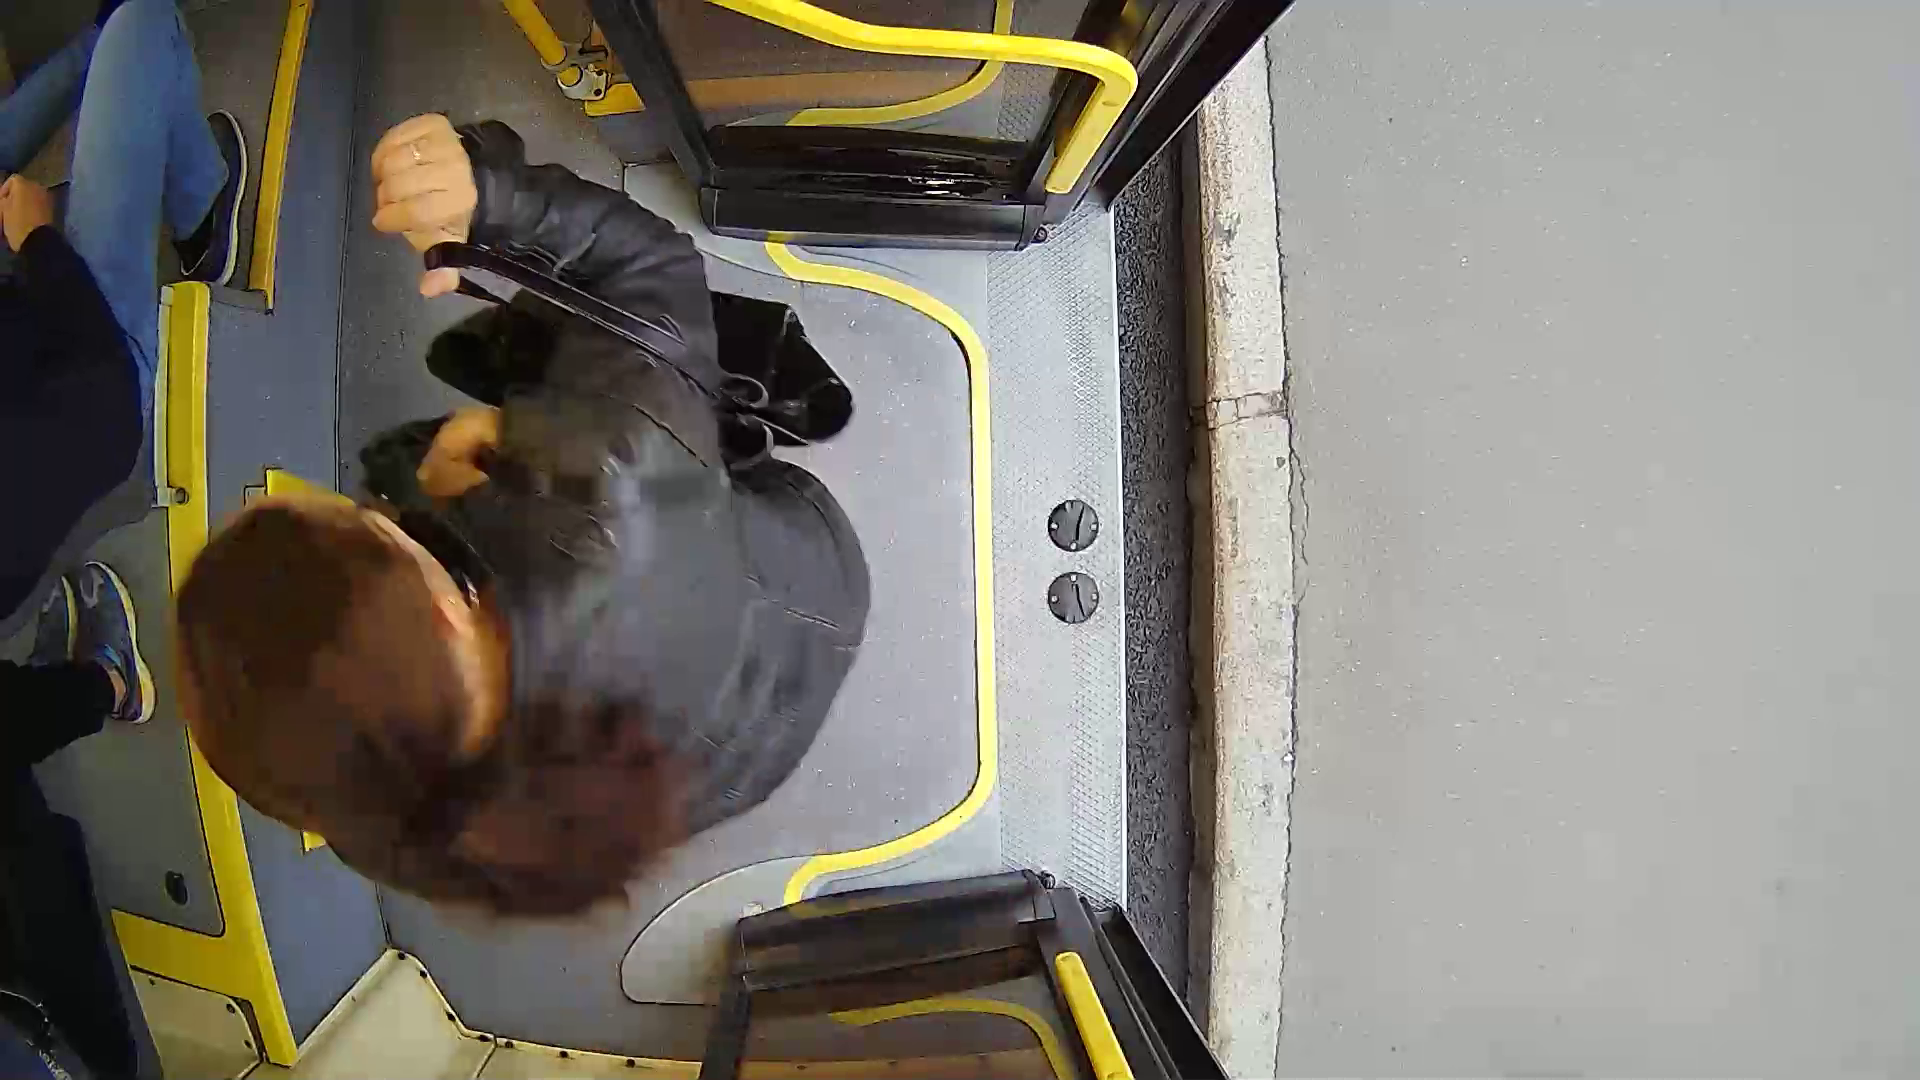person: (198, 194, 902, 885)
